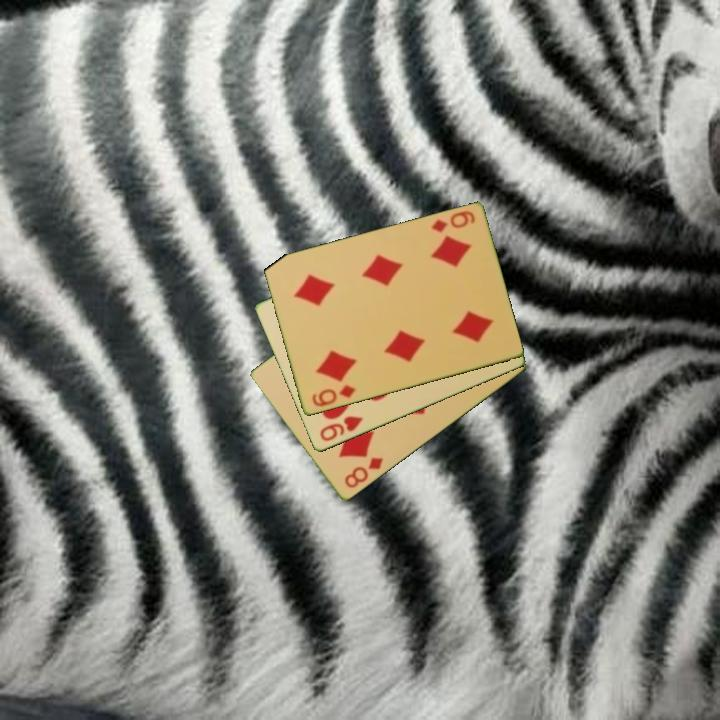6d: (428, 207, 478, 236), (308, 382, 358, 410)
8d: (341, 454, 386, 492)
9h: (316, 413, 366, 445)
